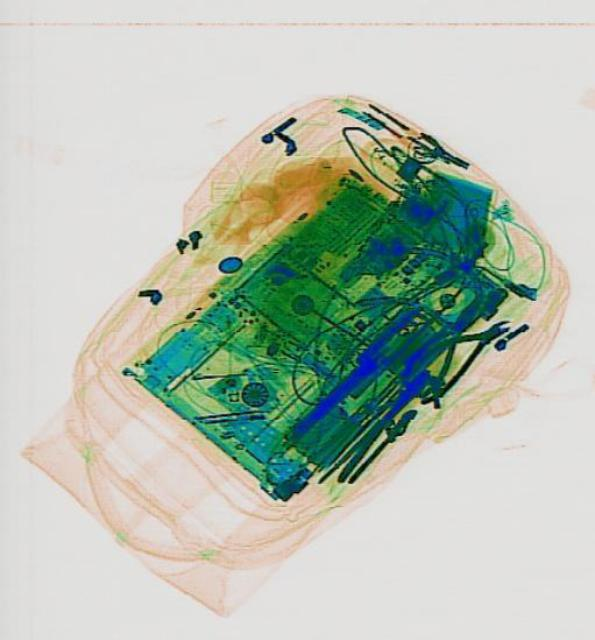Pliers: (391, 298, 521, 409)
